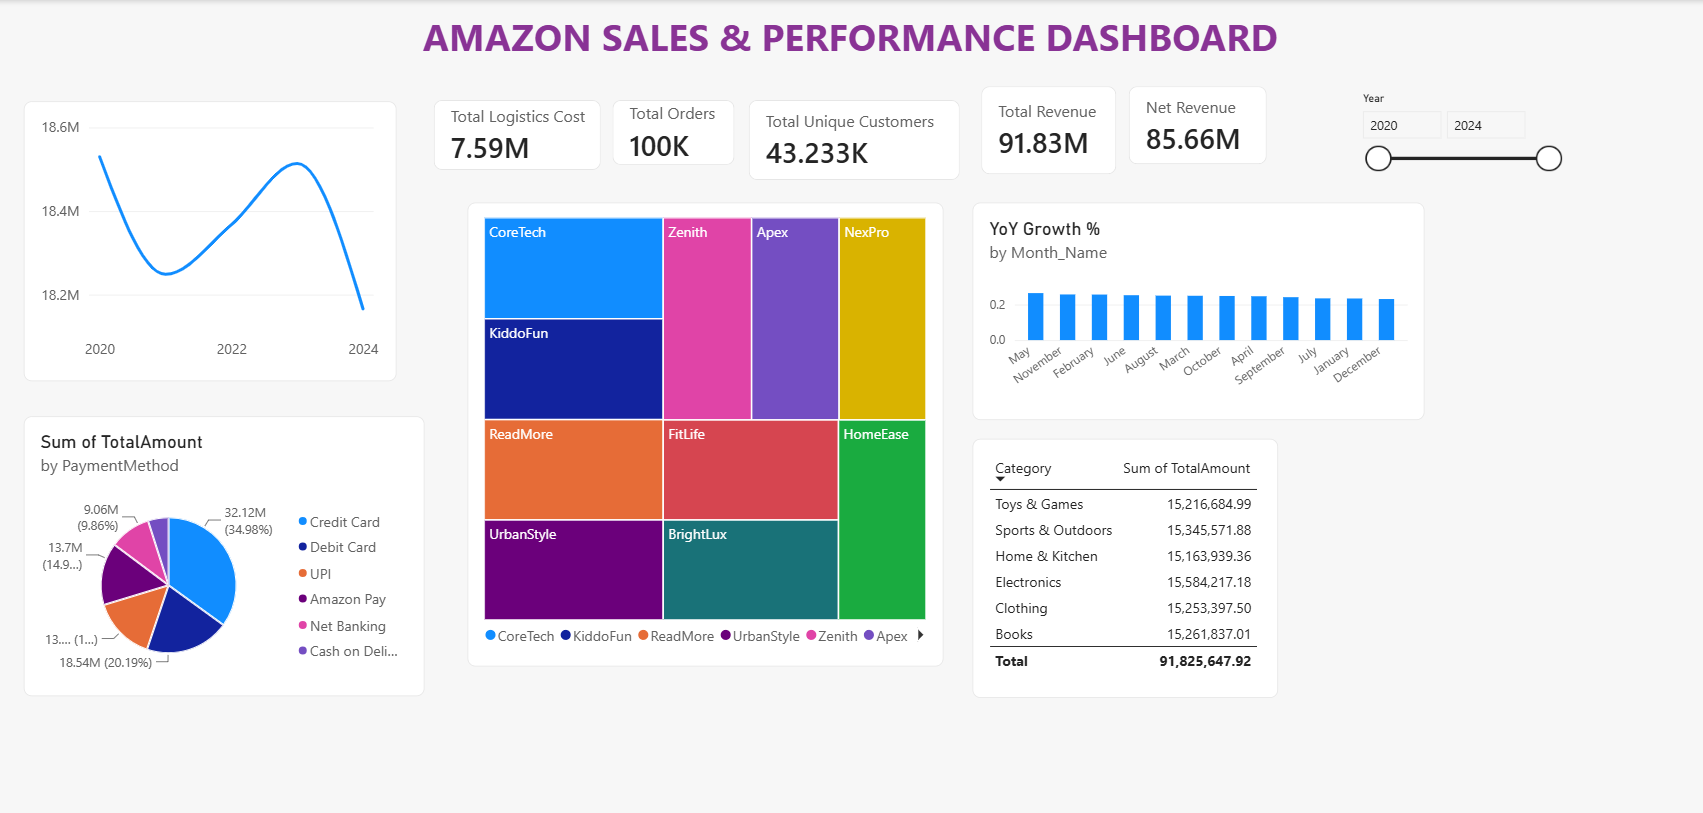

Layout of this report page (visuals, bound fields, positions):
{"tool":"powerbi","page":{"name":"Page 1","canvas":[1920,1080],"ordinal":0},"visuals":[{"type":"lineChart","title":"Yearly Revenue Trend","fields":{"Category":["amazon_cleaned.OrderDate.Variation.Date Hierarchy.Year","amazon_cleaned.OrderDate.Variation.Date Hierarchy.Quarter","amazon_cleaned.OrderDate.Variation.Date Hierarchy.Month","amazon_cleaned.OrderDate.Variation.Date Hierarchy.Day"],"Y":["Sum(amazon_cleaned.TotalAmount)"]},"box":[23.3,101.7,372.5,280],"z":0},{"type":"treemap","fields":{"Group":["amazon_cleaned.Brand"],"Values":["amazon_cleaned.Total Revenue"]},"box":[467.1,202.9,475.7,464.3],"z":1},{"type":"pieChart","fields":{"Category":["amazon_cleaned.PaymentMethod"],"Y":["Sum(amazon_cleaned.TotalAmount)"]},"box":[23.3,416.7,401.1,280],"z":2},{"type":"cardVisual","fields":{"Data":["amazon_cleaned.Total Logistics Cost"]},"box":[434.3,100,167.5,70],"z":3},{"type":"cardVisual","fields":{"Data":["amazon_cleaned.Total Orders"]},"box":[612.9,100,122.5,65],"z":4},{"type":"slicer","fields":{"Values":["amazon_cleaned.Year"]},"box":[972.9,731.4,210,97.5],"z":6},{"type":"tableEx","fields":{"Values":["amazon_cleaned.Category","Sum(amazon_cleaned.TotalAmount)"]},"box":[972.9,438.6,305.6,258.9],"z":8},{"type":"columnChart","fields":{"Category":["amazon_cleaned.Month_Name"],"Y":["amazon_cleaned.YoY Growth %"]},"box":[972.9,202.9,452.2,217.8],"z":10},{"type":"textbox","box":[1524,94,396,217],"z":12},{"type":"textbox","box":[396.7,11.7,908.3,96.7],"z":13},{"type":"cardVisual","fields":{"Data":["amazon_cleaned.Total Unique Customers"]},"box":[748.6,100,211.4,80],"z":14},{"type":"cardVisual","fields":{"Data":["amazon_cleaned.Total Revenue"]},"box":[981.4,85.7,135.7,88.6],"z":15},{"type":"cardVisual","fields":{"Data":["amazon_cleaned.Net Revenue"]},"box":[1128.6,85.7,138.6,78.6],"z":16}]}

Visuals, with their boxes on the page's 1920x1080 design canvas (x1, y1, x2, y2). These are canvas units, not pixel positions in the 1703x813 screenshot, which may show the page scaled, cropped or inside an application window:
"Yearly Revenue Trend" lineChart: {"left": 23, "top": 102, "right": 396, "bottom": 382}
treemap - amazon_cleaned.Brand x amazon_cleaned.Total Revenue: {"left": 467, "top": 203, "right": 943, "bottom": 667}
pieChart - amazon_cleaned.PaymentMethod x Sum(amazon_cleaned.TotalAmount): {"left": 23, "top": 417, "right": 424, "bottom": 697}
cardVisual - amazon_cleaned.Total Logistics Cost: {"left": 434, "top": 100, "right": 602, "bottom": 170}
cardVisual - amazon_cleaned.Total Orders: {"left": 613, "top": 100, "right": 735, "bottom": 165}
slicer - amazon_cleaned.Year: {"left": 973, "top": 731, "right": 1183, "bottom": 829}
tableEx - amazon_cleaned.Category x Sum(amazon_cleaned.TotalAmount): {"left": 973, "top": 439, "right": 1278, "bottom": 698}
columnChart - amazon_cleaned.Month_Name x amazon_cleaned.YoY Growth %: {"left": 973, "top": 203, "right": 1425, "bottom": 421}
textbox: {"left": 1524, "top": 94, "right": 1920, "bottom": 311}
textbox: {"left": 397, "top": 12, "right": 1305, "bottom": 108}
cardVisual - amazon_cleaned.Total Unique Customers: {"left": 749, "top": 100, "right": 960, "bottom": 180}
cardVisual - amazon_cleaned.Total Revenue: {"left": 981, "top": 86, "right": 1117, "bottom": 174}
cardVisual - amazon_cleaned.Net Revenue: {"left": 1129, "top": 86, "right": 1267, "bottom": 164}
